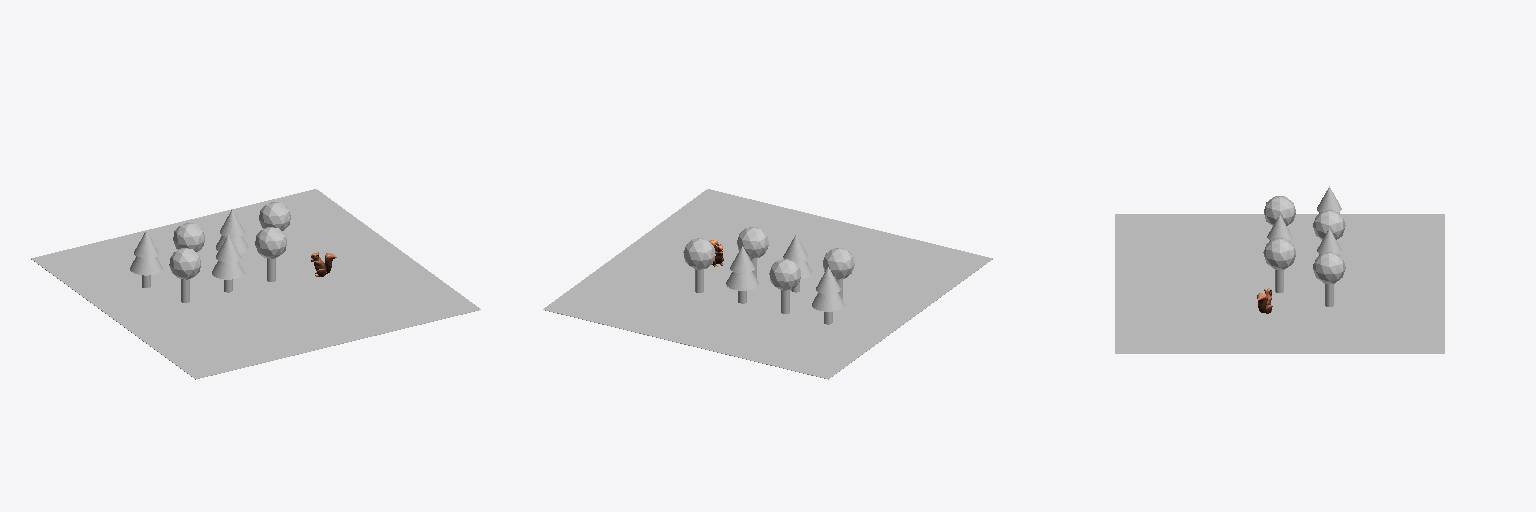
3 views of the same model, side by side, from view 1: azimuth 30°, elevation 25°; view 2: azimuth 150°, elevation 25°; view 3: azimuth 270°, elevation 25° (orthographic).
Visible parts, largest first — view 1: Cube_Cube.001, Cylinder, Cylinder.004_Cylinder.006, Cylinder.001_Cylinder.003, Cylinder.005_Cylinder.007, Cylinder.003_Cylinder.005, Cylinder.006_Cylinder.001, Cylinder.002_Cylinder.004; view 2: Cube_Cube.001, Cylinder.003_Cylinder.005, Cylinder.006_Cylinder.001, Cylinder.002_Cylinder.004, Cylinder.005_Cylinder.007, Cylinder.004_Cylinder.006, Cylinder, Cylinder.001_Cylinder.003; view 3: Cube_Cube.001, Cylinder.006_Cylinder.001, Cylinder, Cylinder.004_Cylinder.006, Cylinder.003_Cylinder.005.
Boxes of the visible parts, <box> form: Cube_Cube.001: <box>31,189,480,379</box>; Cylinder: <box>255,227,286,281</box>; Cylinder.004_Cylinder.006: <box>169,248,200,302</box>; Cylinder.001_Cylinder.003: <box>212,235,244,292</box>; Cylinder.005_Cylinder.007: <box>130,231,162,287</box>; Cylinder.003_Cylinder.005: <box>173,222,204,251</box>; Cylinder.006_Cylinder.001: <box>259,202,290,230</box>; Cylinder.002_Cylinder.004: <box>216,210,248,253</box>; Cube_Cube.001: <box>543,189,992,379</box>; Cylinder.003_Cylinder.005: <box>769,259,800,313</box>; Cylinder.006_Cylinder.001: <box>683,238,715,292</box>; Cylinder.002_Cylinder.004: <box>726,246,758,303</box>; Cylinder.005_Cylinder.007: <box>812,267,844,324</box>; Cylinder.004_Cylinder.006: <box>823,247,854,299</box>; Cylinder: <box>737,227,768,278</box>; Cylinder.001_Cylinder.003: <box>783,235,811,292</box>; Cube_Cube.001: <box>1115,214,1444,353</box>; Cylinder.006_Cylinder.001: <box>1313,252,1345,306</box>; Cylinder: <box>1264,238,1295,292</box>; Cylinder.004_Cylinder.006: <box>1264,196,1295,225</box>; Cylinder.003_Cylinder.005: <box>1313,210,1345,239</box>.
Size of the model in its own units: 20 by 3.79 by 20.
Materials: 2 (1 with a texture image).